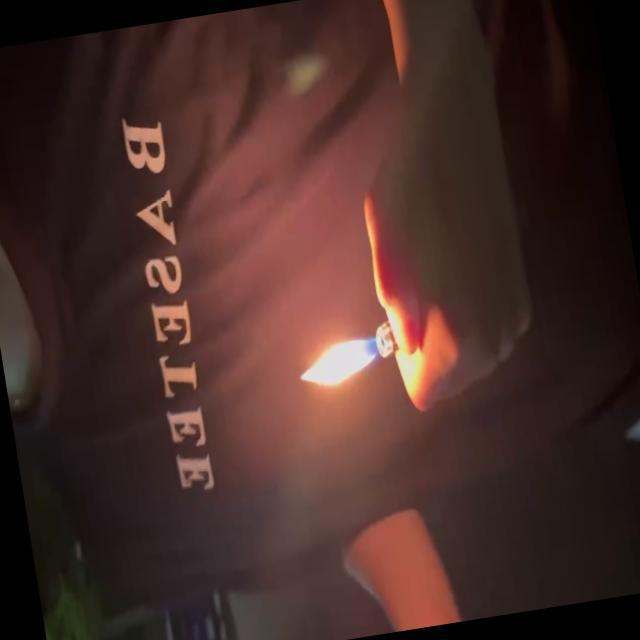Fire: (292, 329, 386, 398)
